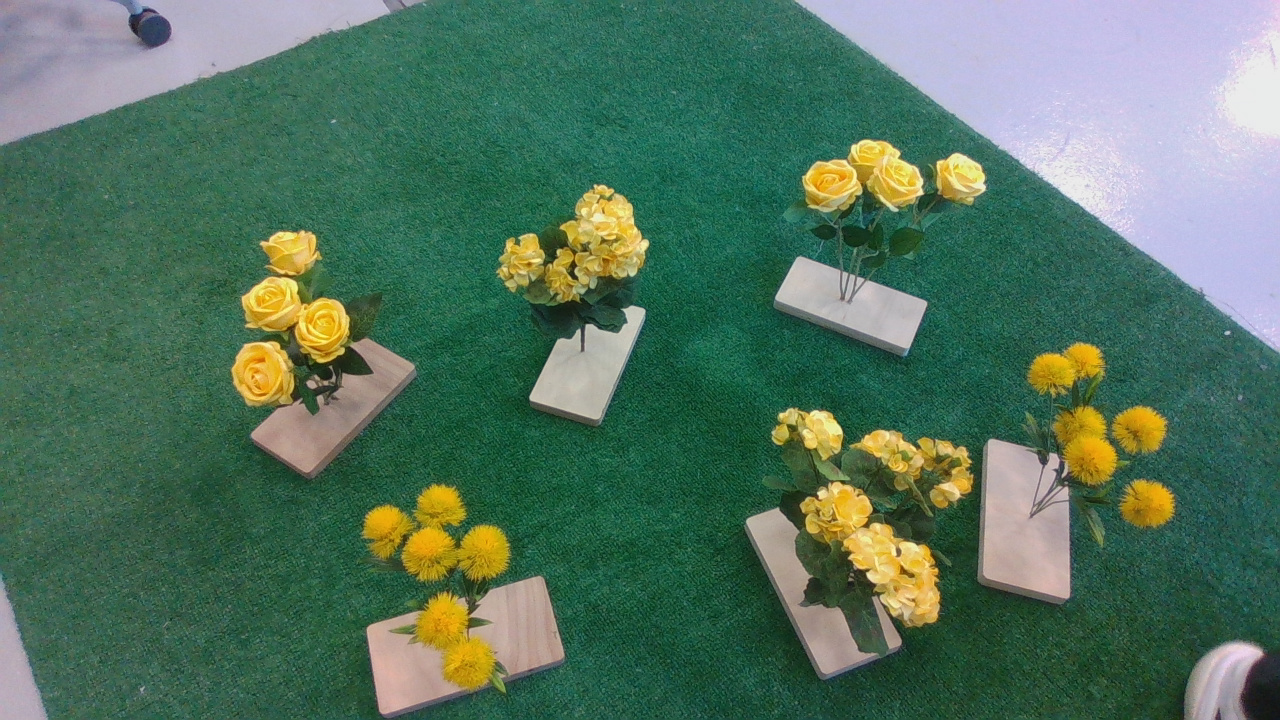dandelion: (351, 482, 525, 705), (1023, 338, 1193, 551)
geranium: (758, 397, 981, 660), (497, 181, 663, 349)
rose: (224, 216, 394, 424), (778, 128, 995, 284)
